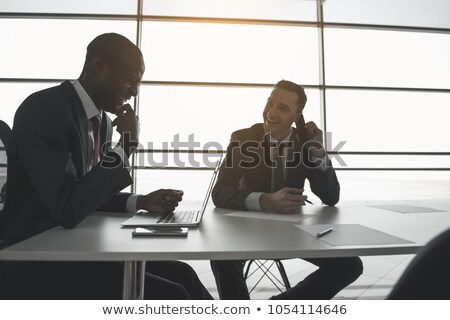phone: (293, 111, 314, 145)
talk: (263, 99, 323, 156)
